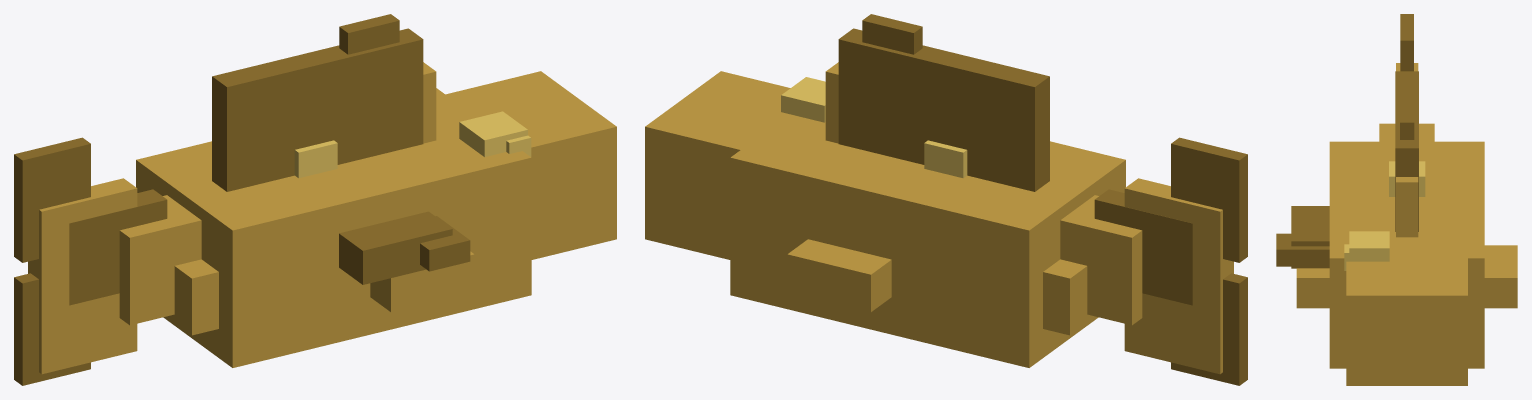
The model's file is fish_crown_canyon.glb.
3 views of the same model, side by side, from view 1: azimuth 30°, elevation 25°; view 2: azimuth 150°, elevation 25°; view 3: azimuth 270°, elevation 25° (orthographic). The views are drawn at different scales.
Parts seen in each view (by area): view 1: FishArt_body, FishArt_dorsal, FishArt_tail, FishArt_pectoral, FishArt_eye, FishArt_specialty; view 2: FishArt_body, FishArt_dorsal, FishArt_tail, FishArt_eye, FishArt_specialty; view 3: FishArt_body, FishArt_pectoral, FishArt_dorsal, FishArt_eye, FishArt_tail, FishArt_specialty.
Boxes of the visible parts, x1,y1,x2,y2 form: FishArt_body: (28,62,616,374); FishArt_dorsal: (212,14,423,191); FishArt_tail: (14,137,167,385); FishArt_pectoral: (339,211,470,284); FishArt_eye: (459,111,531,156); FishArt_specialty: (294,140,337,178); FishArt_body: (645,62,1233,374); FishArt_dorsal: (838,14,1049,191); FishArt_tail: (1094,137,1247,385); FishArt_eye: (781,77,825,122); FishArt_specialty: (924,140,967,178); FishArt_body: (1296,63,1517,385); FishArt_pectoral: (1276,206,1329,268); FishArt_dorsal: (1395,71,1418,231); FishArt_eye: (1344,231,1389,270); FishArt_tail: (1400,14,1413,71); FishArt_specialty: (1389,161,1425,196).
Bounding box in the file's own units: 0.3091 × 0.1442 × 0.1439.
